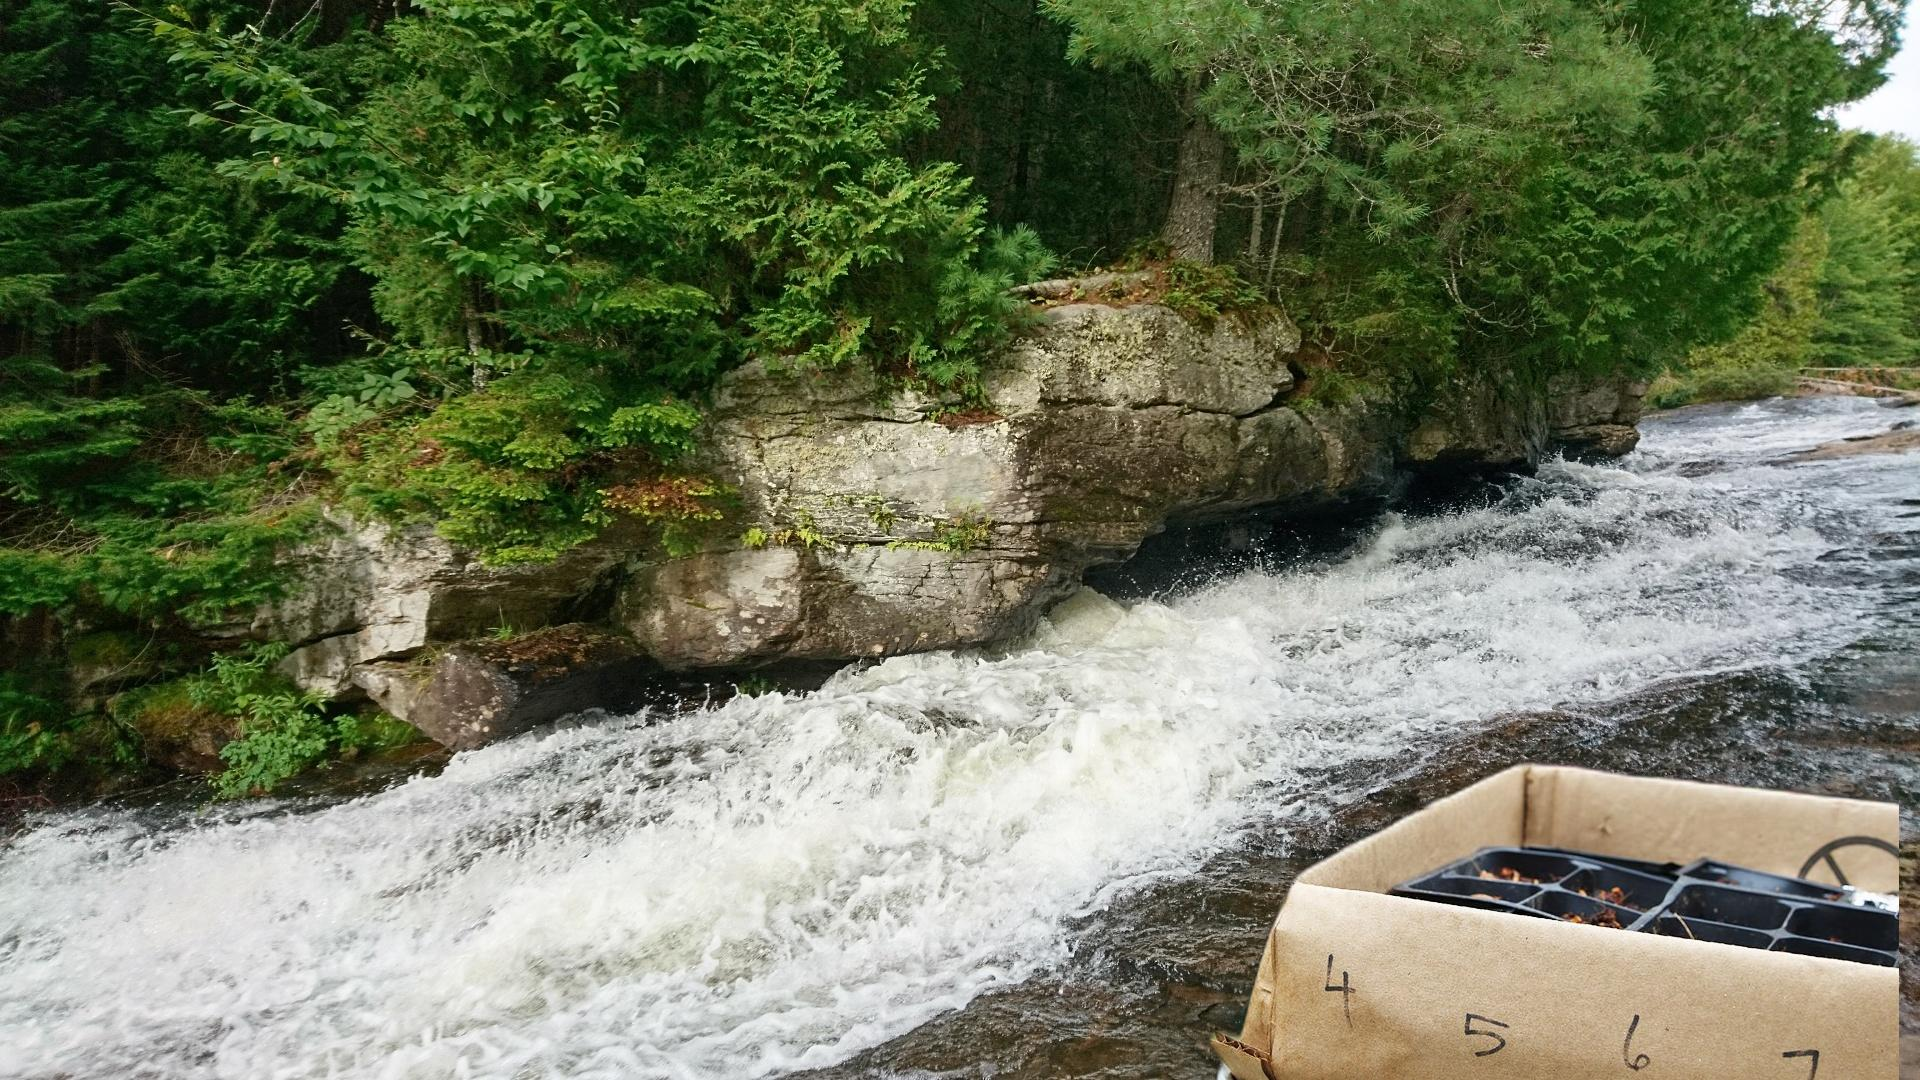trashbox-cardboard: (1203, 752, 1899, 1080)
